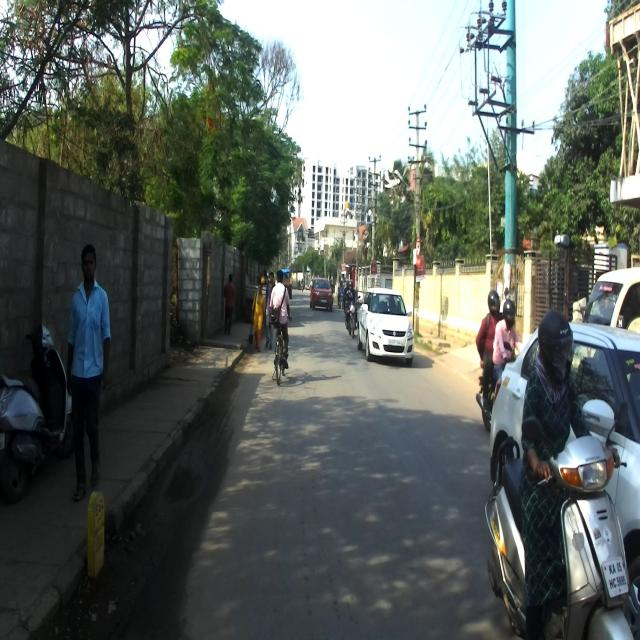car: (487, 322, 639, 639), (357, 286, 414, 366)
motorcycle: (475, 339, 522, 434)
scooter: (484, 398, 634, 637), (0, 319, 73, 501)
truck: (580, 264, 640, 340)
